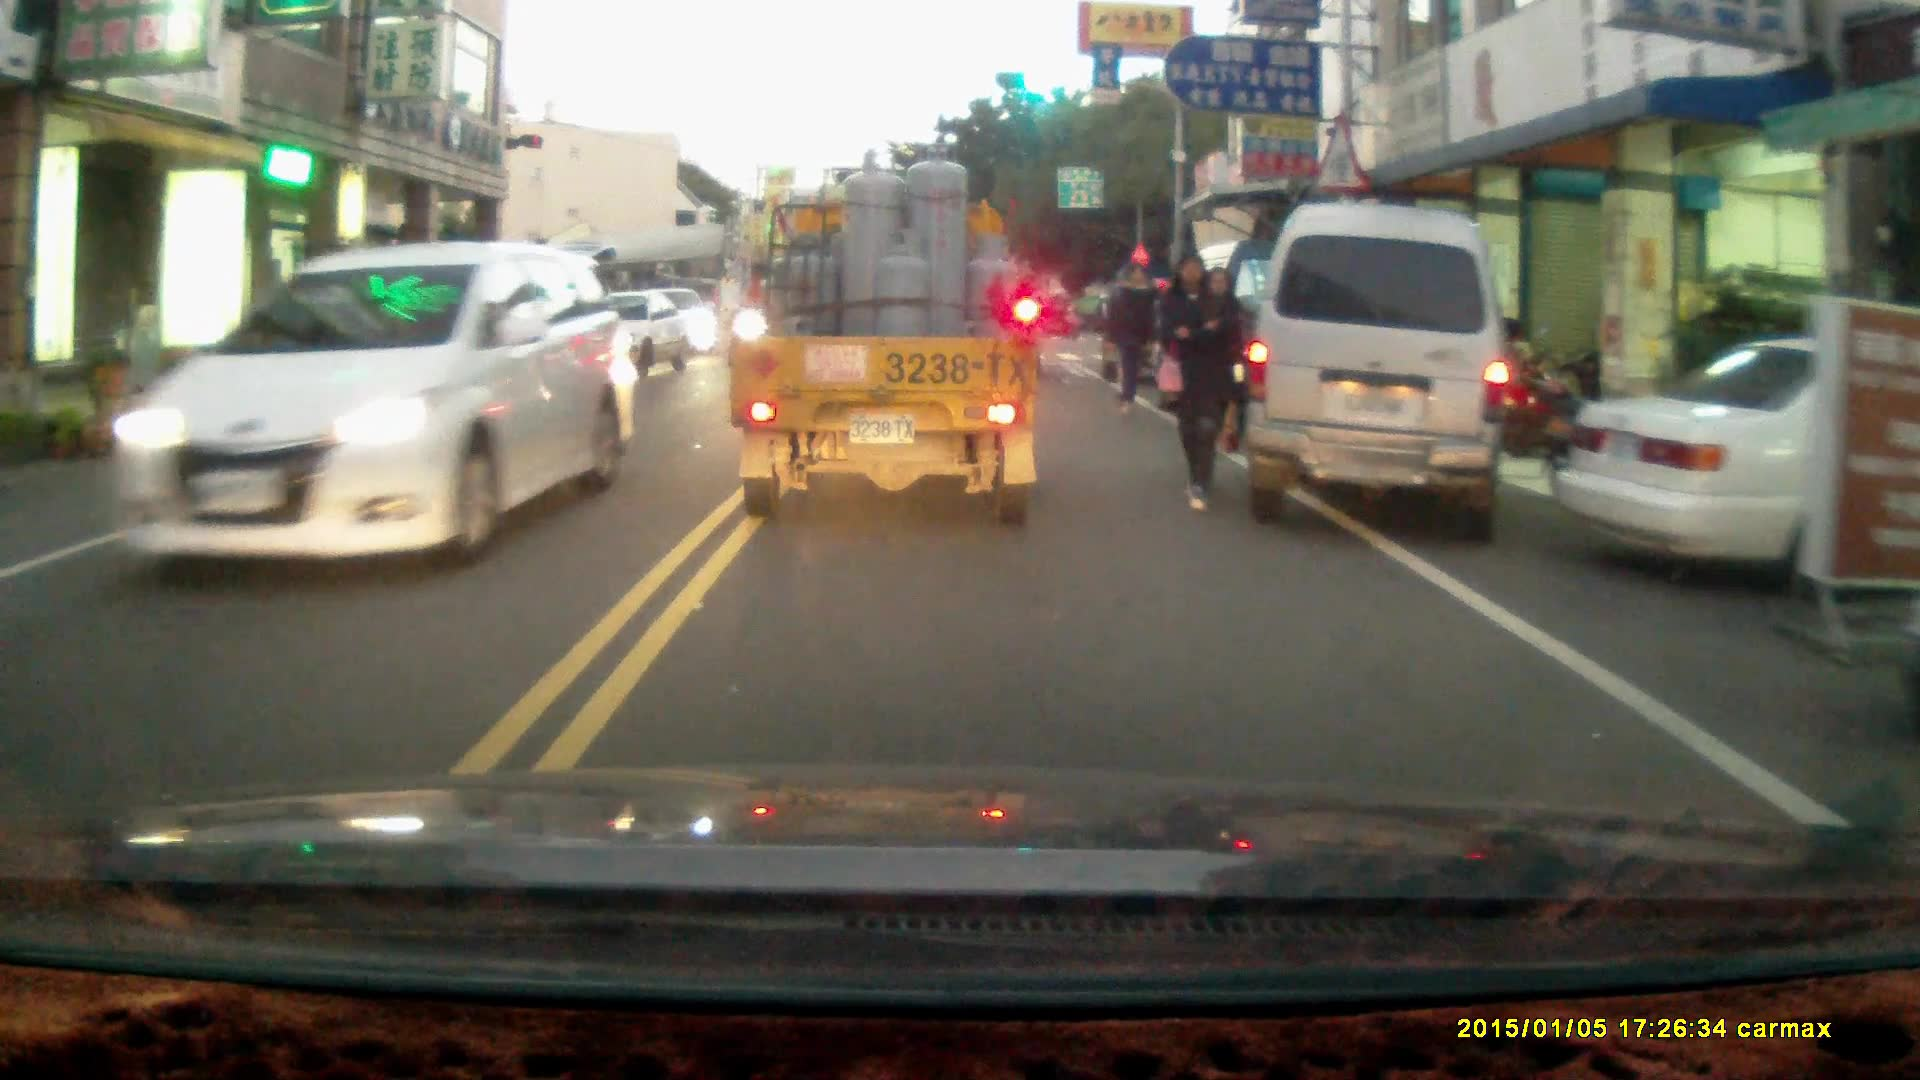pedestrian: (1155, 245, 1227, 512), (1105, 261, 1157, 420)
rider: (1040, 287, 1078, 340)
vehicle: (82, 242, 617, 576), (722, 140, 1046, 528), (1551, 333, 1920, 610), (1236, 202, 1519, 540)
